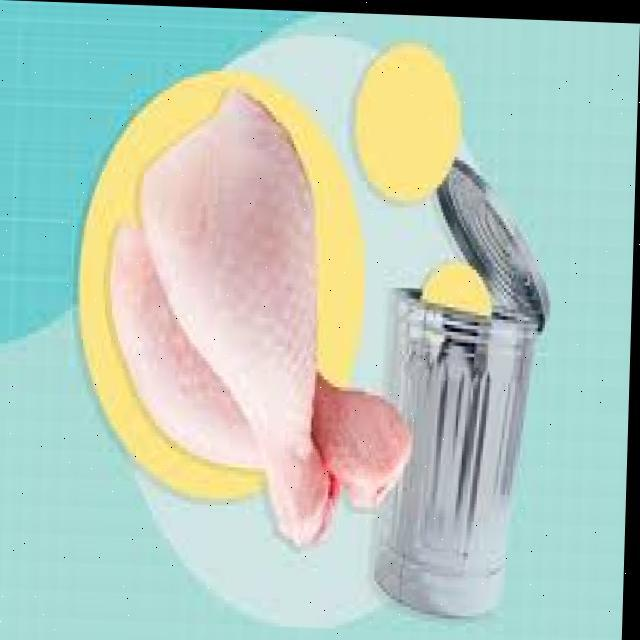leg: (138, 77, 350, 556), (85, 209, 418, 512)
